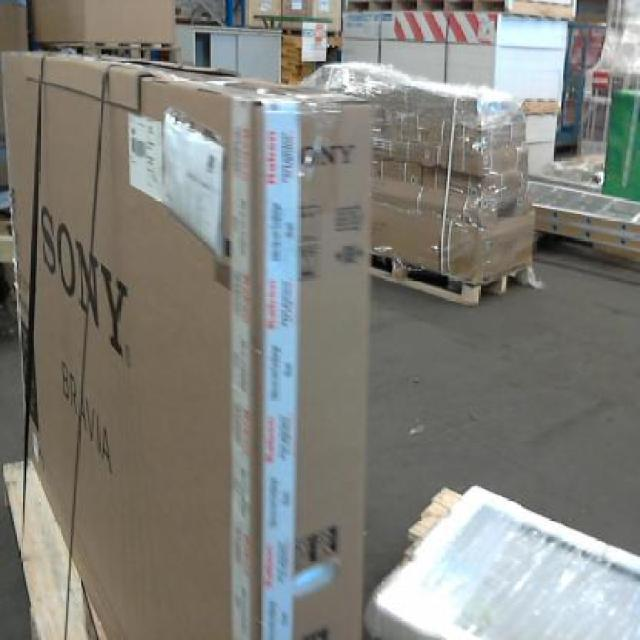ground: (366, 242, 638, 587)
pallet: (363, 243, 543, 316), (342, 0, 584, 24), (32, 38, 187, 62)
